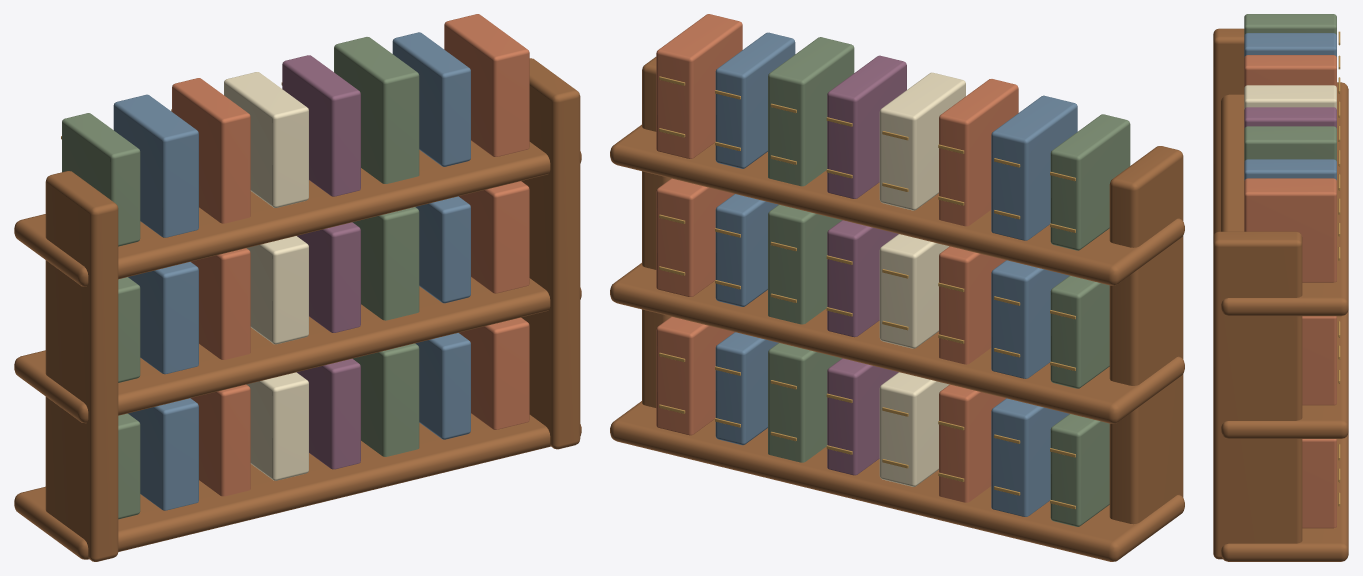
File: wall_books.glb
3 renders of one model, left to right at view 1: azimuth 30°, elevation 25°; view 2: azimuth 150°, elevation 25°; view 3: azimuth 270°, elevation 25°, orthographic. The views are drawn at different scales.
Parts seen in each view (by area): view 1: House07_wall_books; view 2: House07_wall_books; view 3: House07_wall_books.
Part boxes in pixels (x1,y1,x2,y2): House07_wall_books: (14, 14, 581, 561); House07_wall_books: (610, 14, 1184, 561); House07_wall_books: (1213, 14, 1348, 561).
Size of the model in its own units: 1.35 by 1.02 by 0.35.
